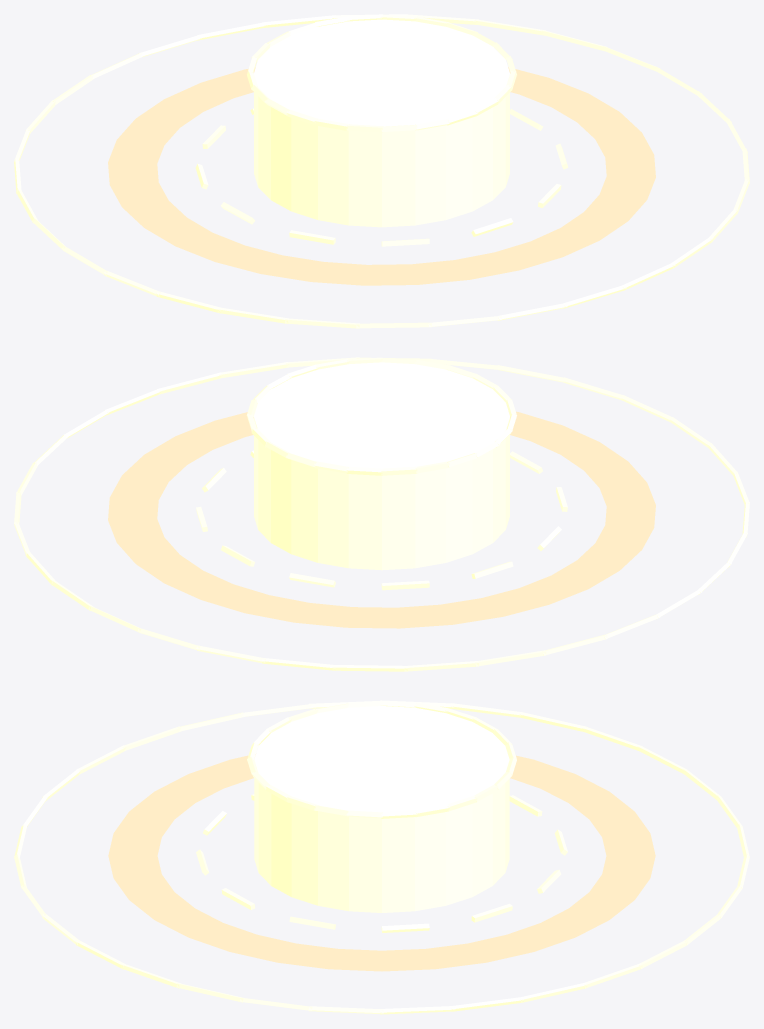
File: FX_AegisImpact.fbx
The picture shows the model from 3 angles, top to bottom: view 1: azimuth 30°, elevation 25°; view 2: azimuth 150°, elevation 25°; view 3: azimuth 270°, elevation 25°; orthographic projection.
Visible parts, largest first — view 1: Impact_PulseWall, Impact_SoftRing, Impact_ThinRing, Impact_PulseWallRim, Impact_DashedRing; view 2: Impact_PulseWall, Impact_SoftRing, Impact_ThinRing, Impact_PulseWallRim, Impact_DashedRing; view 3: Impact_PulseWall, Impact_SoftRing, Impact_ThinRing, Impact_PulseWallRim, Impact_DashedRing.
Boxes of the visible parts, <box> form: Impact_PulseWall: <box>254,19,509,227</box>; Impact_SoftRing: <box>108,67,655,285</box>; Impact_ThinRing: <box>14,14,749,328</box>; Impact_PulseWallRim: <box>247,14,516,132</box>; Impact_DashedRing: <box>195,108,568,246</box>; Impact_PulseWall: <box>254,362,509,570</box>; Impact_SoftRing: <box>108,411,655,628</box>; Impact_ThinRing: <box>14,357,749,671</box>; Impact_PulseWallRim: <box>246,357,516,475</box>; Impact_DashedRing: <box>196,450,567,590</box>; Impact_PulseWall: <box>254,706,509,912</box>; Impact_SoftRing: <box>108,754,655,971</box>; Impact_ThinRing: <box>14,700,749,1014</box>; Impact_PulseWallRim: <box>247,701,516,818</box>; Impact_DashedRing: <box>196,794,567,932</box>.
Bounding box in the file's own units: 2.02 × 0.3129 × 2.02.
